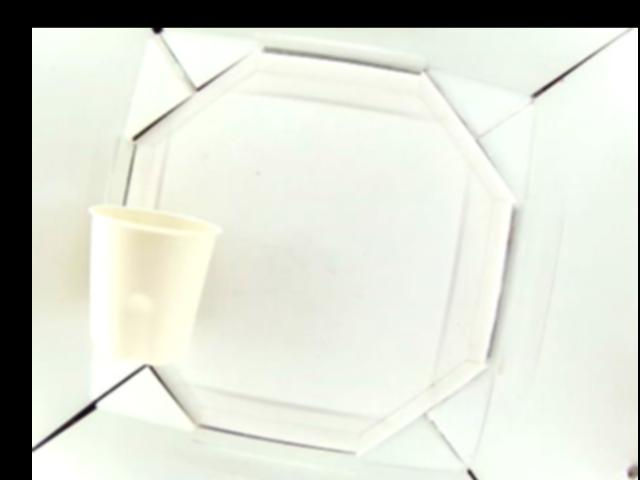Cup: (86, 201, 221, 364)
